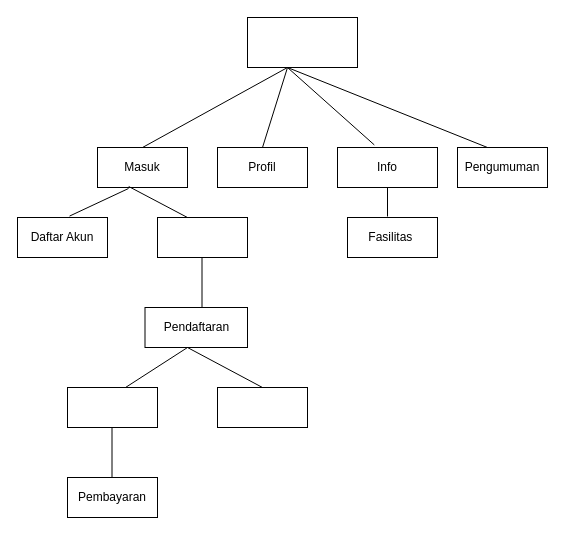
Image size: 565x535. Some labels were removed from this diagram. The shapes that lost their labels are listed below. From the top down, each one's centre as x and y in pixels, then its label:
At [302,42]: "Halaman Utama".
At [202,237]: "Santri Login".
At [112,407]: "Unggah Dokumen".
At [262,407]: "Unggah Datadiri".
